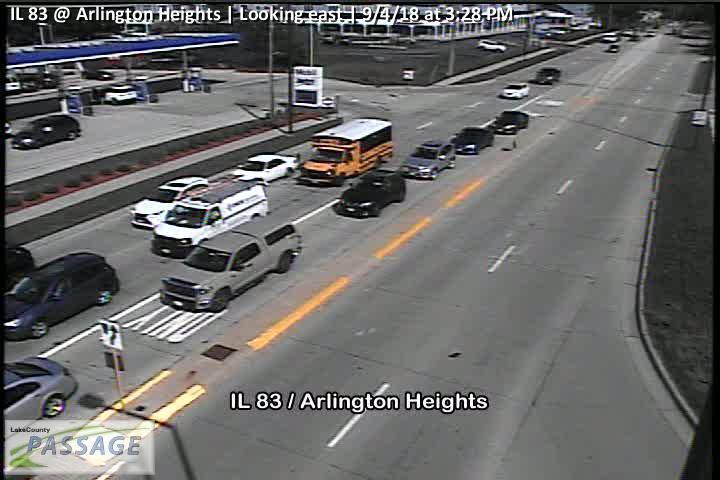Bus: (299, 117, 393, 188)
SUV: (159, 217, 303, 313), (1, 252, 121, 341), (150, 182, 270, 256), (129, 175, 207, 229), (11, 115, 82, 150), (401, 141, 456, 180)
Sedan: (336, 171, 407, 218), (231, 154, 299, 184), (450, 127, 494, 156), (488, 110, 530, 136), (502, 83, 530, 99), (535, 69, 562, 85)
